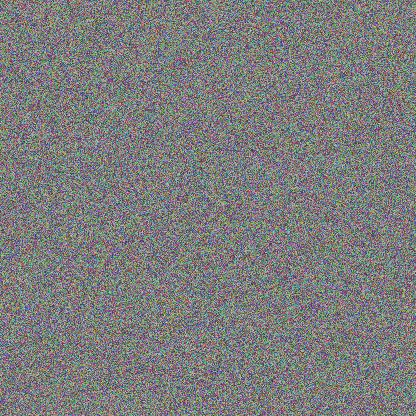empty: (138, 131, 190, 247)
